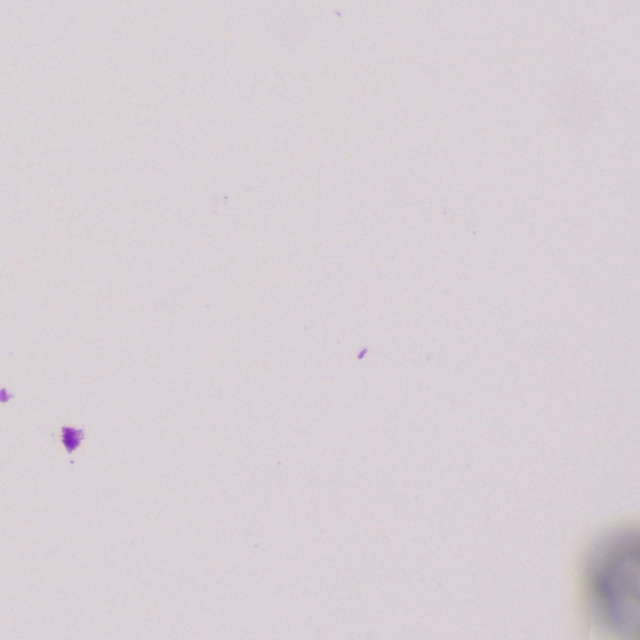viable: (570, 511, 639, 639), (61, 427, 83, 452)
